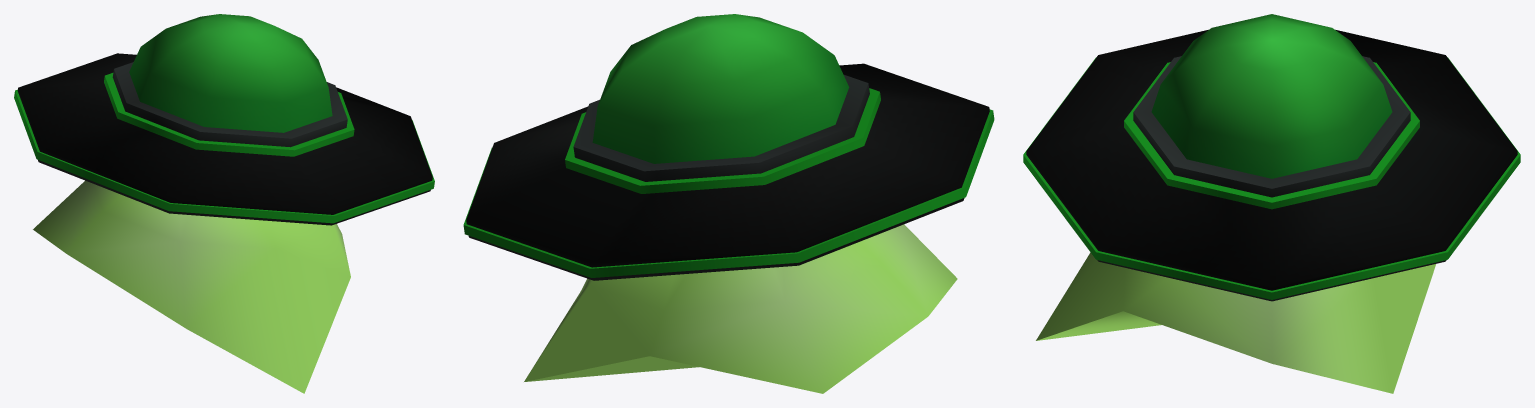
Rendered from hat_ufo.glb.
The picture shows the model from 3 angles, left to right: view 1: azimuth 30°, elevation 25°; view 2: azimuth 150°, elevation 25°; view 3: azimuth 270°, elevation 25°; orthographic projection. The views are drawn at different scales.
Parts seen in each view (by area): view 1: hat_ufo; view 2: hat_ufo; view 3: hat_ufo.
Boxes of the visible parts, left/top/right/bottom form: hat_ufo: left=14, top=14, right=434, bottom=393; hat_ufo: left=463, top=14, right=994, bottom=393; hat_ufo: left=1023, top=14, right=1520, bottom=393.
Size of the model in its own units: 0.377 by 0.2729 by 0.3802.
